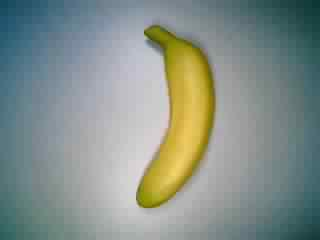banana: (128, 20, 219, 211)
